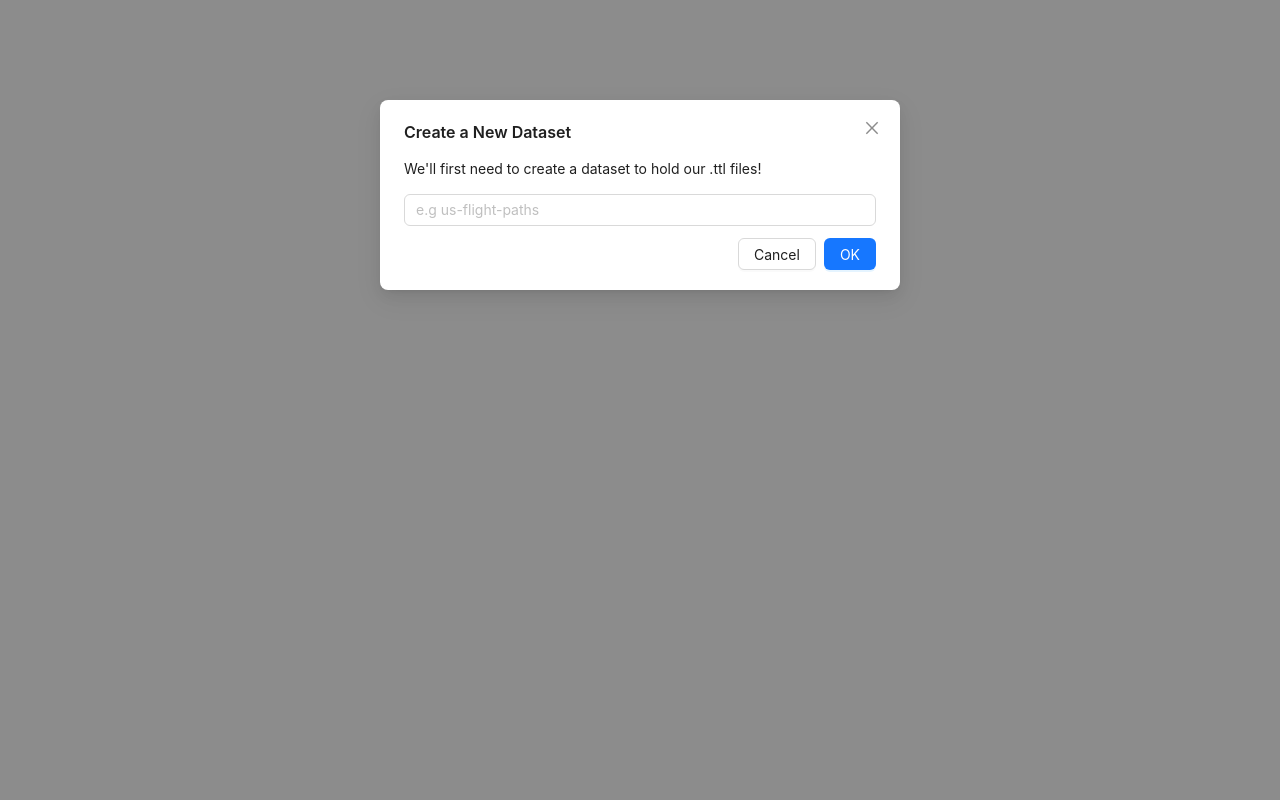
Scenario: Create Dataset Modal › changes inputs to be case-insensitive with "-" replacing " ".
Type "Test Dataset Name" into the field at (640, 210), box [404,194,876,226]
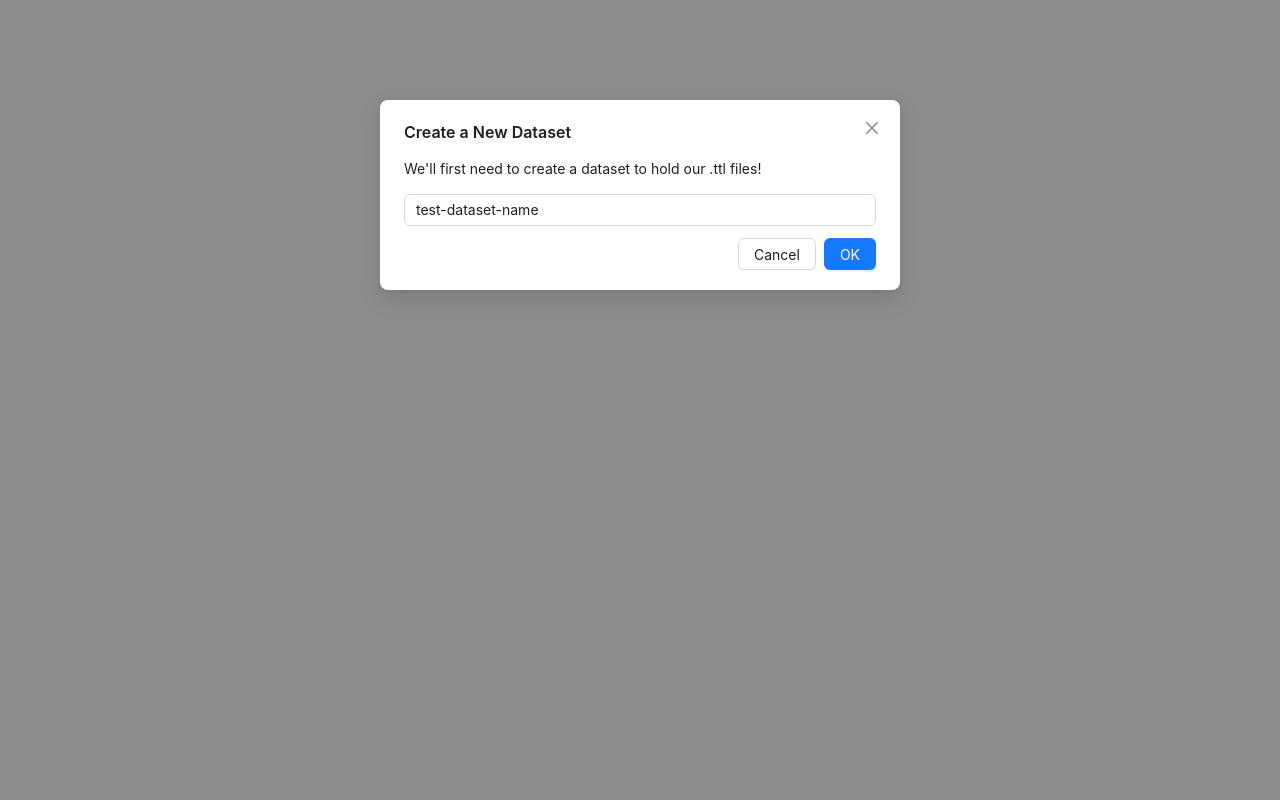
Expected: the field holds "test-dataset-name", [404,194,876,226]
